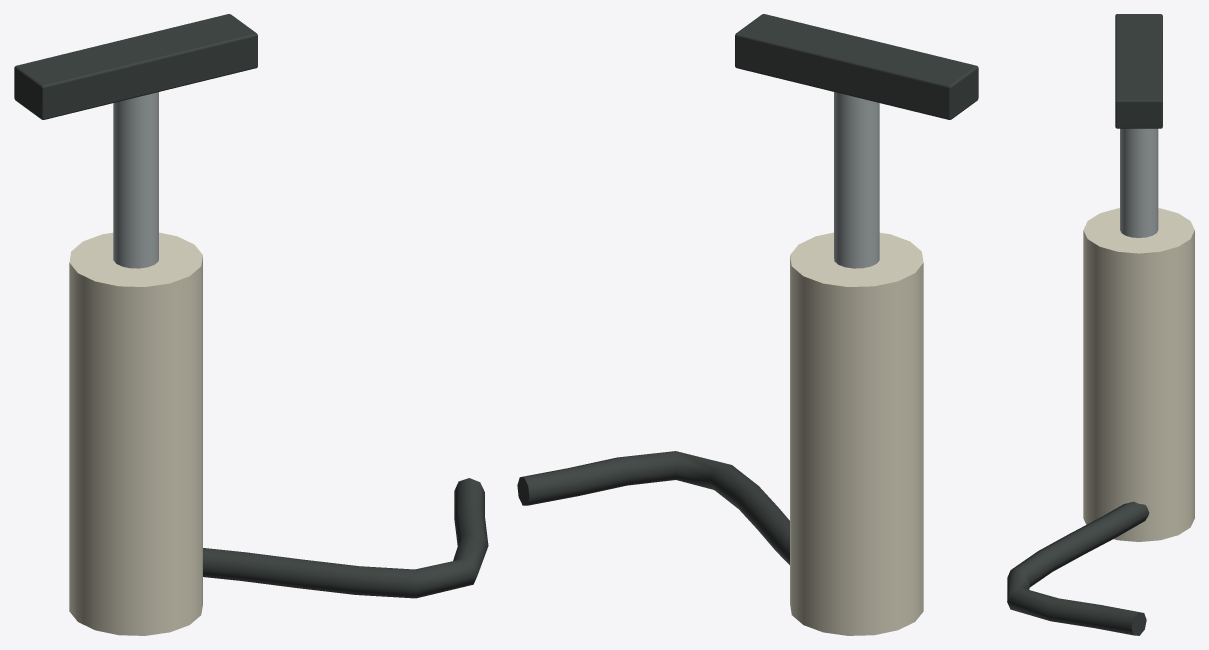
The model's file is water-collection-and-purification-pump-filter-cc20a6d5__20194.glb.
3 renders of one model, left to right at view 1: azimuth 30°, elevation 25°; view 2: azimuth 150°, elevation 25°; view 3: azimuth 270°, elevation 25°, orthographic. The views are drawn at different scales.
Parts seen in each view (by area): view 1: pump-filter; view 2: pump-filter; view 3: pump-filter.
Part boxes in pixels (bbox=[...]): pump-filter: bbox=[14, 14, 488, 635]; pump-filter: bbox=[517, 14, 978, 635]; pump-filter: bbox=[1007, 14, 1194, 635].
Size of the model in its own units: 0.2714 by 0.32 by 0.1179.
